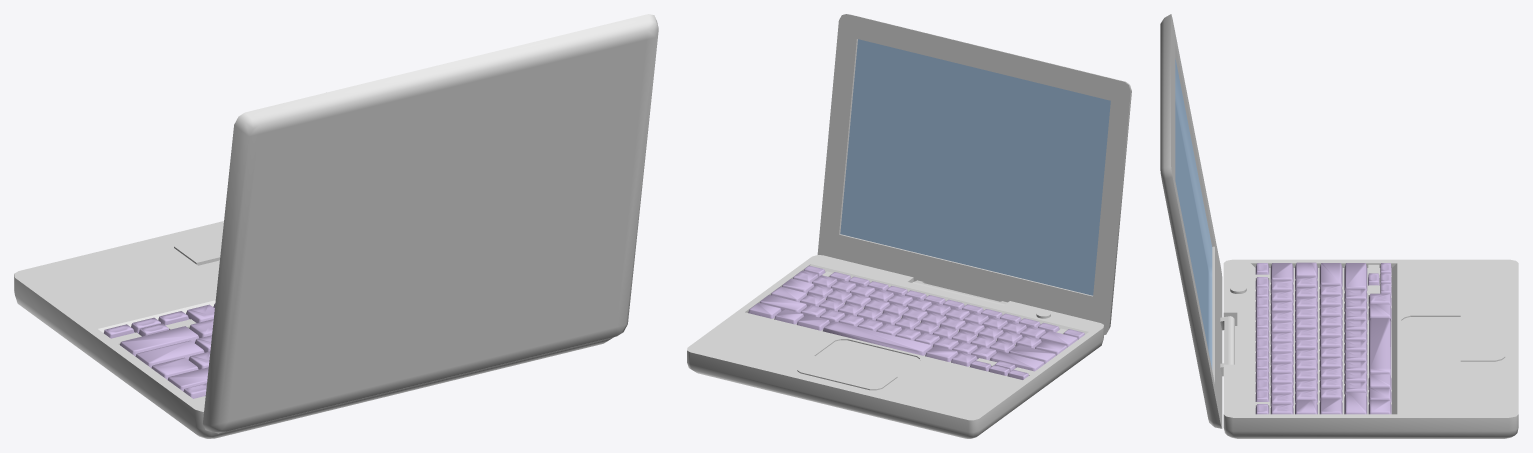
Rendered from laptop.fbx.
3 views of the same model, side by side, from view 1: azimuth 30°, elevation 25°; view 2: azimuth 150°, elevation 25°; view 3: azimuth 270°, elevation 25° (orthographic). The views are drawn at different scales.
Visible parts, largest first — view 1: iBook_lid, iBook_bottom, iBook_keyboard; view 2: iBook_lid, iBook_bottom, iBook_keyboard; view 3: iBook_bottom, iBook_keyboard, iBook_lid.
Boxes of the visible parts, x1,y1,x2,y2 form: iBook_lid: (203,14,658,433); iBook_bottom: (14,221,613,438); iBook_keyboard: (104,303,215,398); iBook_lid: (817,14,1131,334); iBook_bottom: (687,255,1103,438); iBook_keyboard: (748,265,1084,379); iBook_bottom: (1223,259,1518,438); iBook_keyboard: (1255,262,1391,414); iBook_lid: (1160,14,1234,428).
Size of the model in its own units: 38.31 by 30.78 by 36.61.
